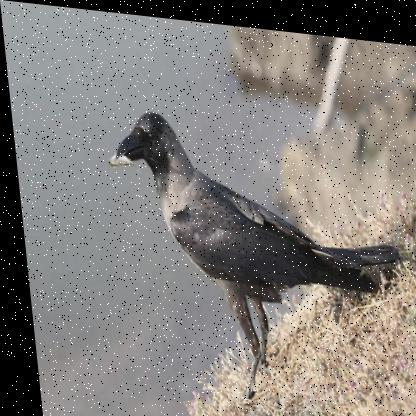Burung: (108, 106, 407, 409)
